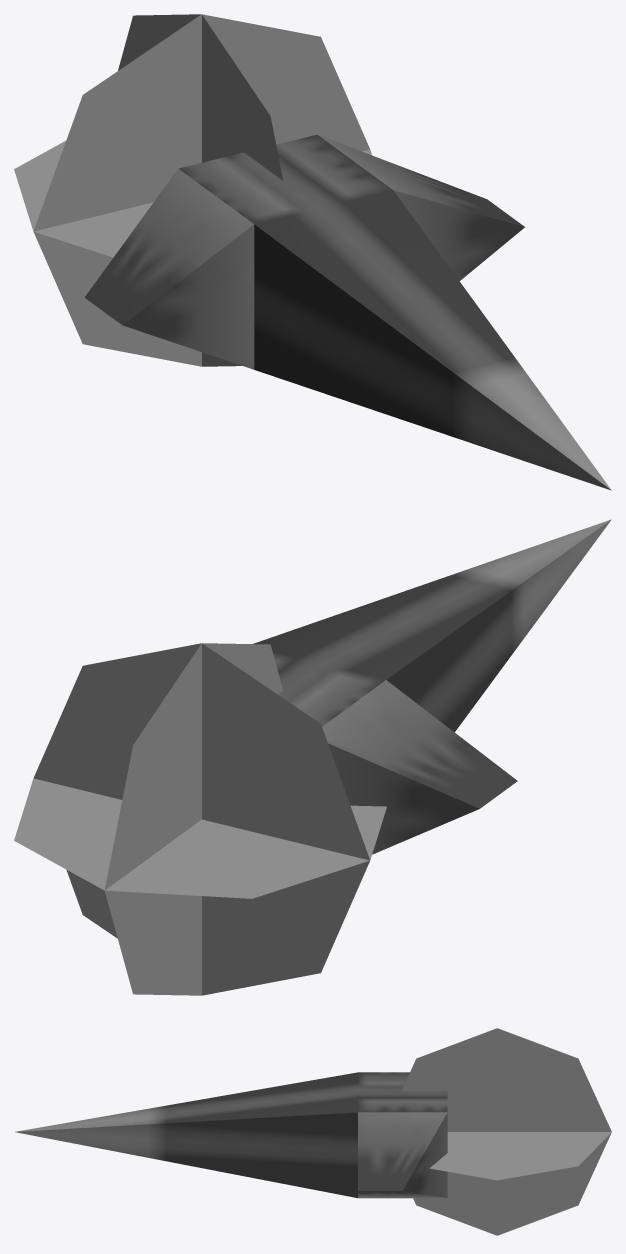
Rendered from rocket-hyper.glb.
The picture shows the model from 3 angles, top to bottom: view 1: azimuth 30°, elevation 25°; view 2: azimuth 150°, elevation 25°; view 3: azimuth 270°, elevation 25°; orthographic projection. The views are drawn at different scales.
Parts seen in each view (by area): view 1: root; view 2: root; view 3: root.
Boxes of the visible parts, box(x1,y1,x2,y2) form: root: box(14, 14, 611, 490); root: box(14, 519, 611, 995); root: box(15, 1028, 611, 1235).
Bounding box in the file's own units: 0.1074 × 0.0898 × 0.2344.
Materials: 1 (1 with a texture image).
